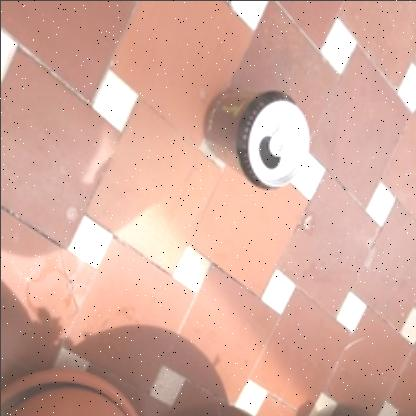Can: (201, 86, 307, 190)
